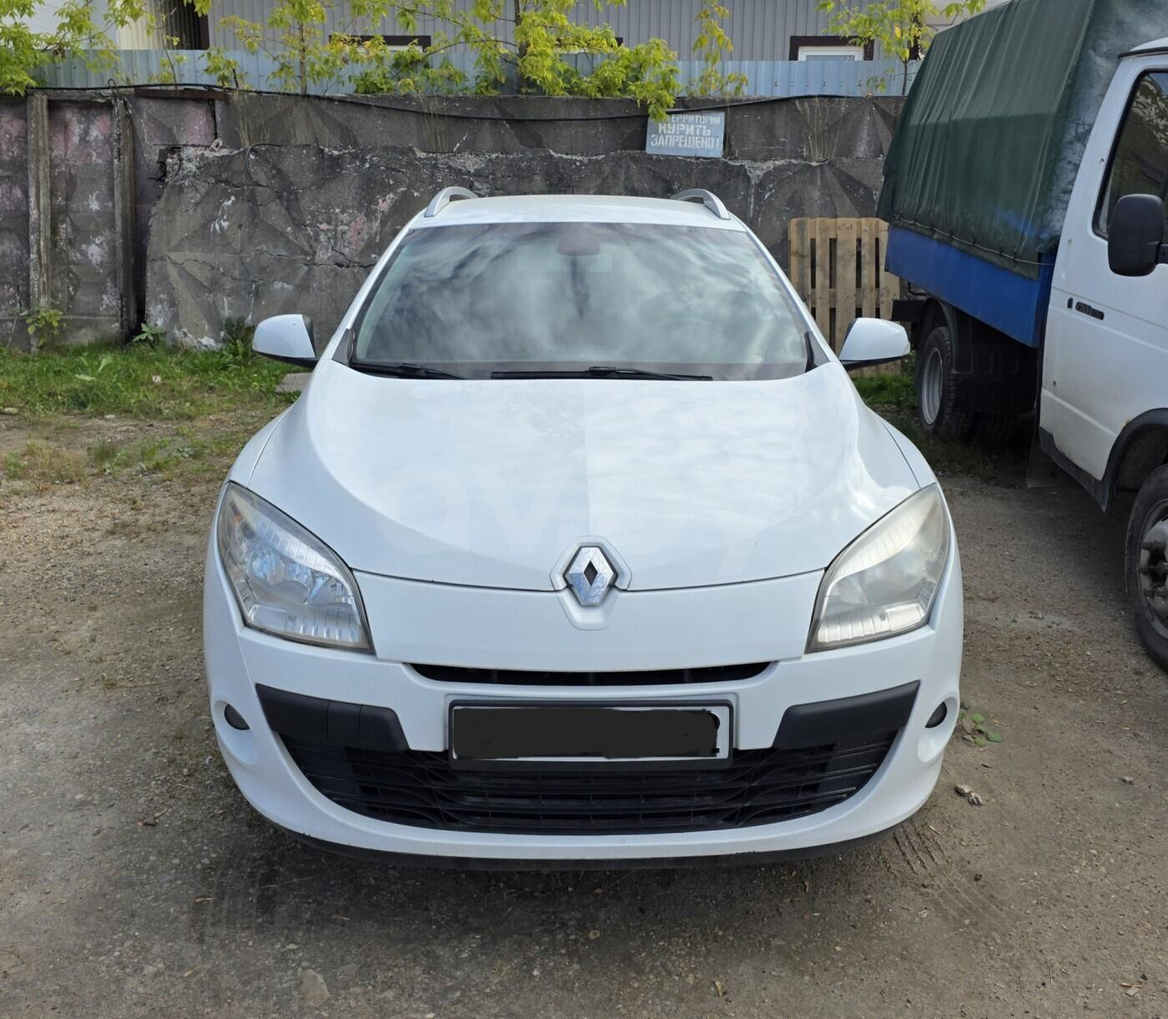Megane_2008-2014: (196, 190, 971, 878)
